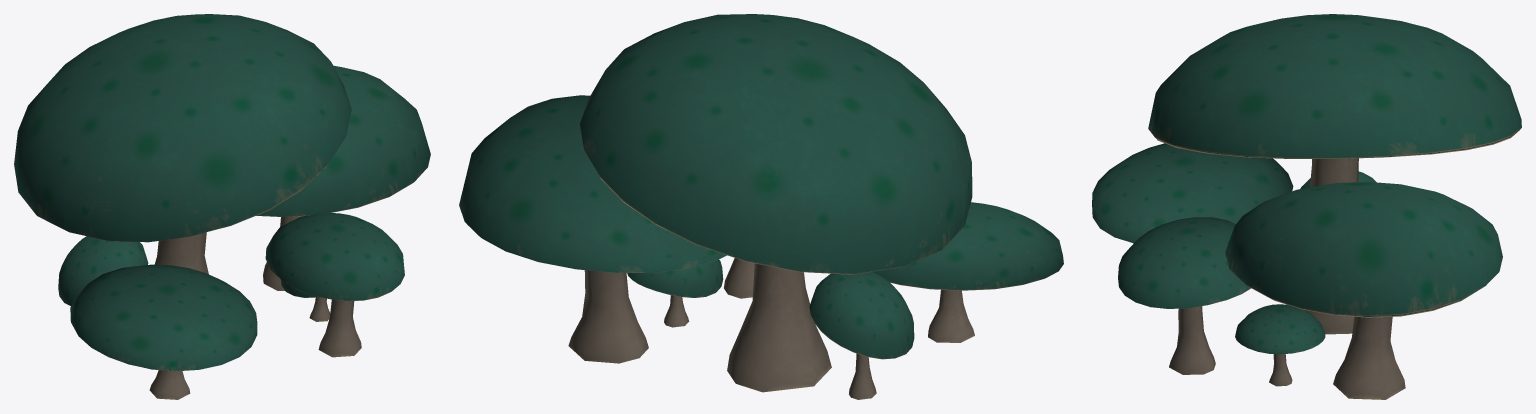
File: mushroom_pack1.fbx
The picture shows the model from 3 angles, left to right: view 1: azimuth 30°, elevation 25°; view 2: azimuth 150°, elevation 25°; view 3: azimuth 270°, elevation 25°; orthographic projection. The views are drawn at different scales.
Visible parts, largest first — view 1: mushroom1, mushroom2, mushroom6, mushroom4, mushroom3, mushroom5; view 2: mushroom1, mushroom6, mushroom2, mushroom3, mushroom5, mushroom4; view 3: mushroom1, mushroom6, mushroom2, mushroom4, mushroom5.
Part boxes in pixels (left/top/right/bottom): mushroom1: left=14, top=14, right=351, bottom=274; mushroom2: left=70, top=264, right=257, bottom=399; mushroom6: left=256, top=65, right=430, bottom=290; mushroom4: left=265, top=213, right=404, bottom=357; mushroom3: left=58, top=236, right=148, bottom=305; mushroom5: left=280, top=279, right=330, bottom=321; mushroom1: left=580, top=14, right=972, bottom=392; mushroom6: left=459, top=95, right=726, bottom=363; mushroom2: left=873, top=202, right=1063, bottom=342; mushroom3: left=809, top=271, right=914, bottom=399; mushroom5: left=627, top=259, right=723, bottom=327; mushroom4: left=724, top=258, right=754, bottom=298; mushroom1: left=1148, top=14, right=1521, bottom=334; mushroom6: left=1225, top=182, right=1502, bottom=399; mushroom2: left=1092, top=143, right=1293, bottom=243; mushroom4: left=1118, top=217, right=1250, bottom=374; mushroom5: left=1235, top=304, right=1325, bottom=386.
Size of the model in its own units: 87.89 by 57.41 by 74.06.
